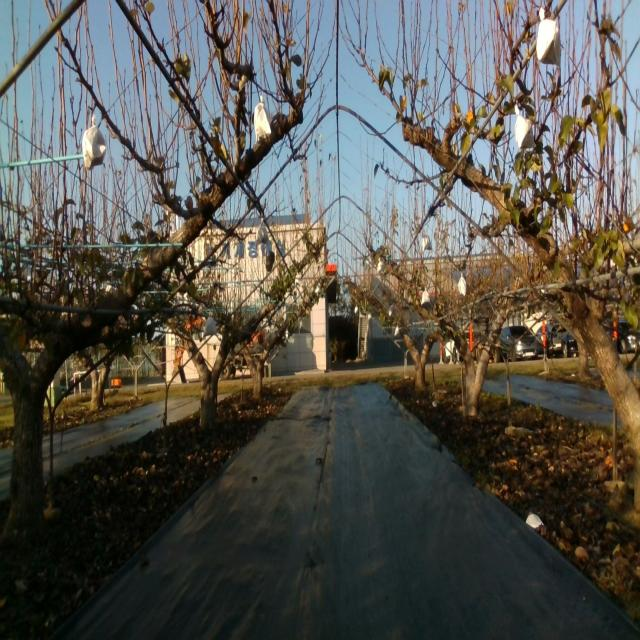pearbags: (536, 10, 564, 67), (80, 114, 106, 172), (515, 103, 537, 148), (254, 94, 272, 144), (257, 222, 269, 246), (203, 316, 217, 336)
